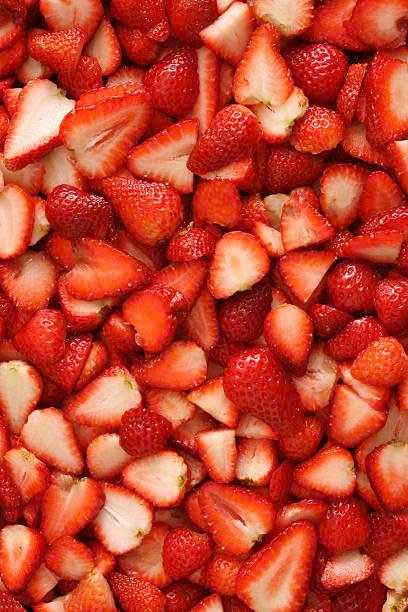strawberry: (231, 518, 319, 612), (223, 347, 304, 439), (53, 95, 149, 172), (59, 234, 153, 307), (196, 475, 272, 559), (183, 102, 262, 177), (97, 171, 179, 243), (231, 23, 294, 108), (17, 405, 89, 477), (208, 225, 270, 305), (118, 447, 189, 511), (135, 342, 209, 391)
